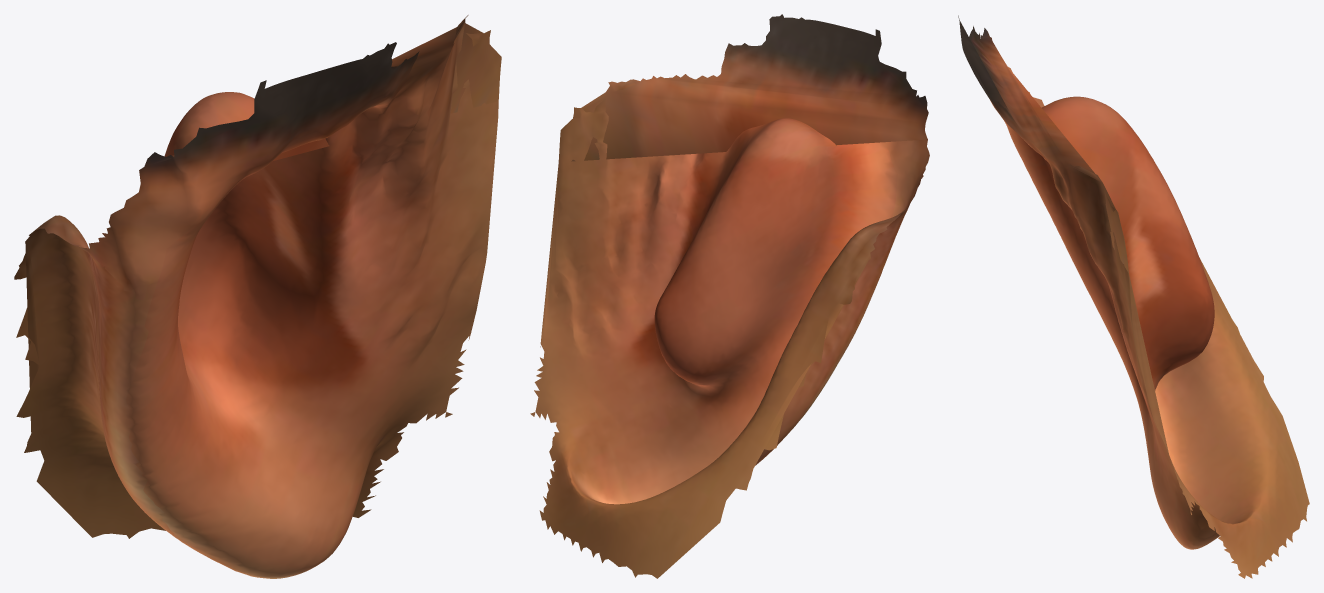
The model's file is COLLIDER_EAR_RIGHT.glb.
3 renders of one model, left to right at view 1: azimuth 30°, elevation 25°; view 2: azimuth 150°, elevation 25°; view 3: azimuth 270°, elevation 25°, orthographic. The views are drawn at different scales.
Parts seen in each view (by area): view 1: tripo_node_9bab15ef-14f4-426d-8081-19d1b5f2643f; view 2: tripo_node_9bab15ef-14f4-426d-8081-19d1b5f2643f; view 3: tripo_node_9bab15ef-14f4-426d-8081-19d1b5f2643f.
Boxes of the visible parts, box(x1,y1,x2,y2) form: tripo_node_9bab15ef-14f4-426d-8081-19d1b5f2643f: box(14, 15, 501, 578); tripo_node_9bab15ef-14f4-426d-8081-19d1b5f2643f: box(530, 14, 929, 578); tripo_node_9bab15ef-14f4-426d-8081-19d1b5f2643f: box(958, 15, 1309, 578).
Size of the model in its own units: 0.1097 by 0.1484 by 0.1009.
1 material, 1 textured.
